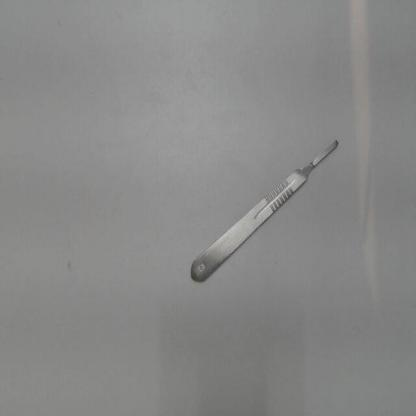No.4 BP Handle: (184, 131, 344, 290)
